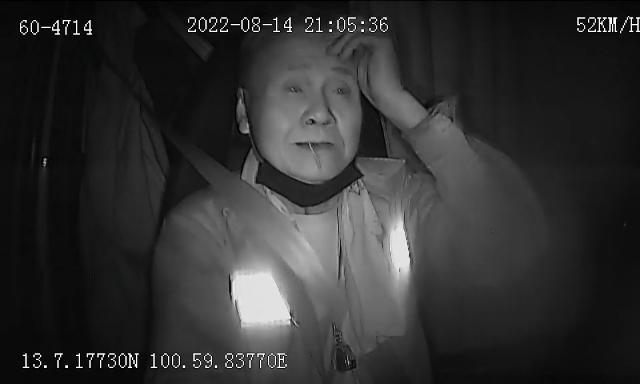SafeDriving: (324, 69, 358, 104), (278, 70, 310, 102)
Seatbelt: (166, 126, 350, 384)
